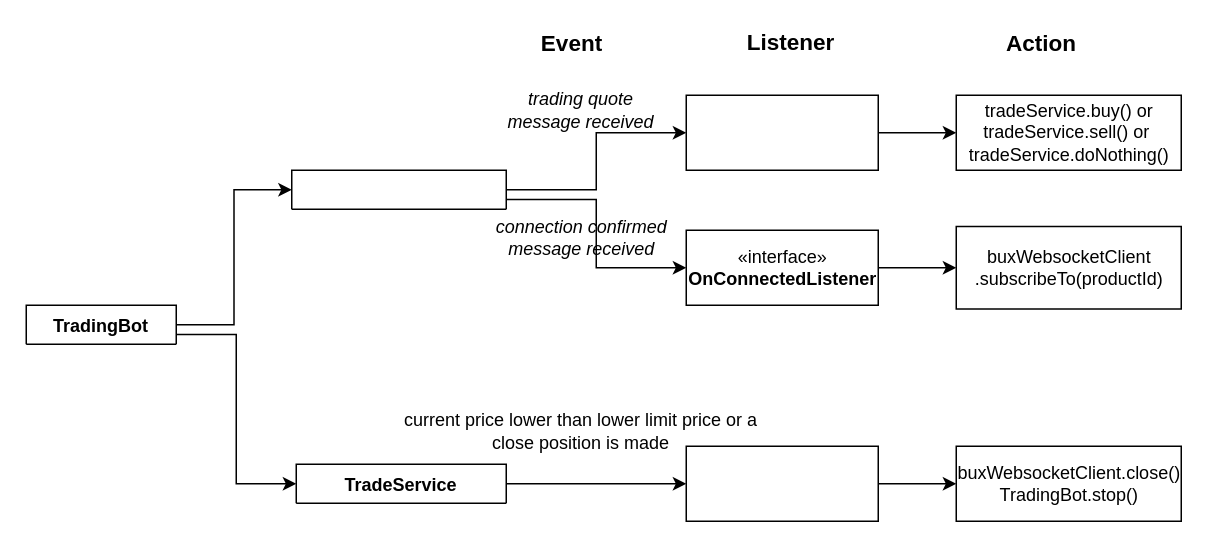
Some shapes in this 1208 by 548 pixel diagram are drawn without their labels. The box of each missing label's shape, as (x1, y1, x2, y2) in pixels:
BuxWebsocketClient: (290, 169, 506, 209)
«interface» MessageListener: (685, 94, 878, 170)
«interface» OnFinishedListener: (685, 445, 878, 521)
